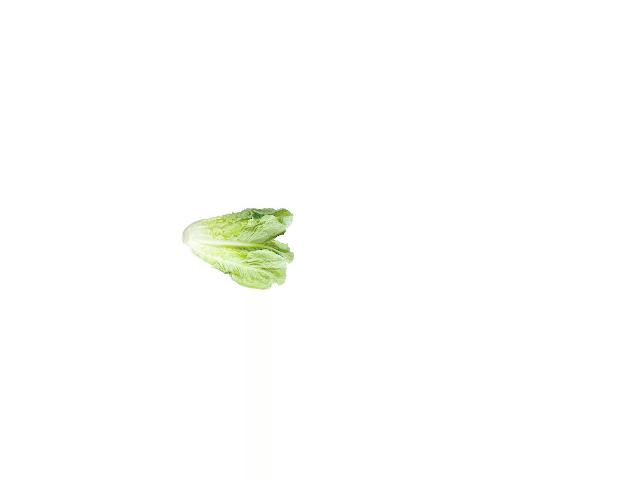lettuce: (179, 205, 293, 288)
